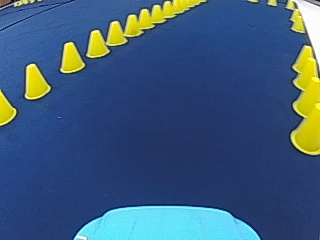cone: (289, 102, 319, 153), (290, 47, 318, 98), (291, 73, 319, 116), (23, 62, 50, 99), (59, 40, 85, 73), (291, 44, 316, 76), (85, 29, 109, 57), (0, 89, 16, 124), (105, 20, 126, 45), (298, 56, 319, 80), (292, 70, 317, 90), (123, 14, 140, 36), (137, 8, 152, 28), (149, 4, 163, 23), (290, 12, 304, 31), (161, 0, 173, 17)
